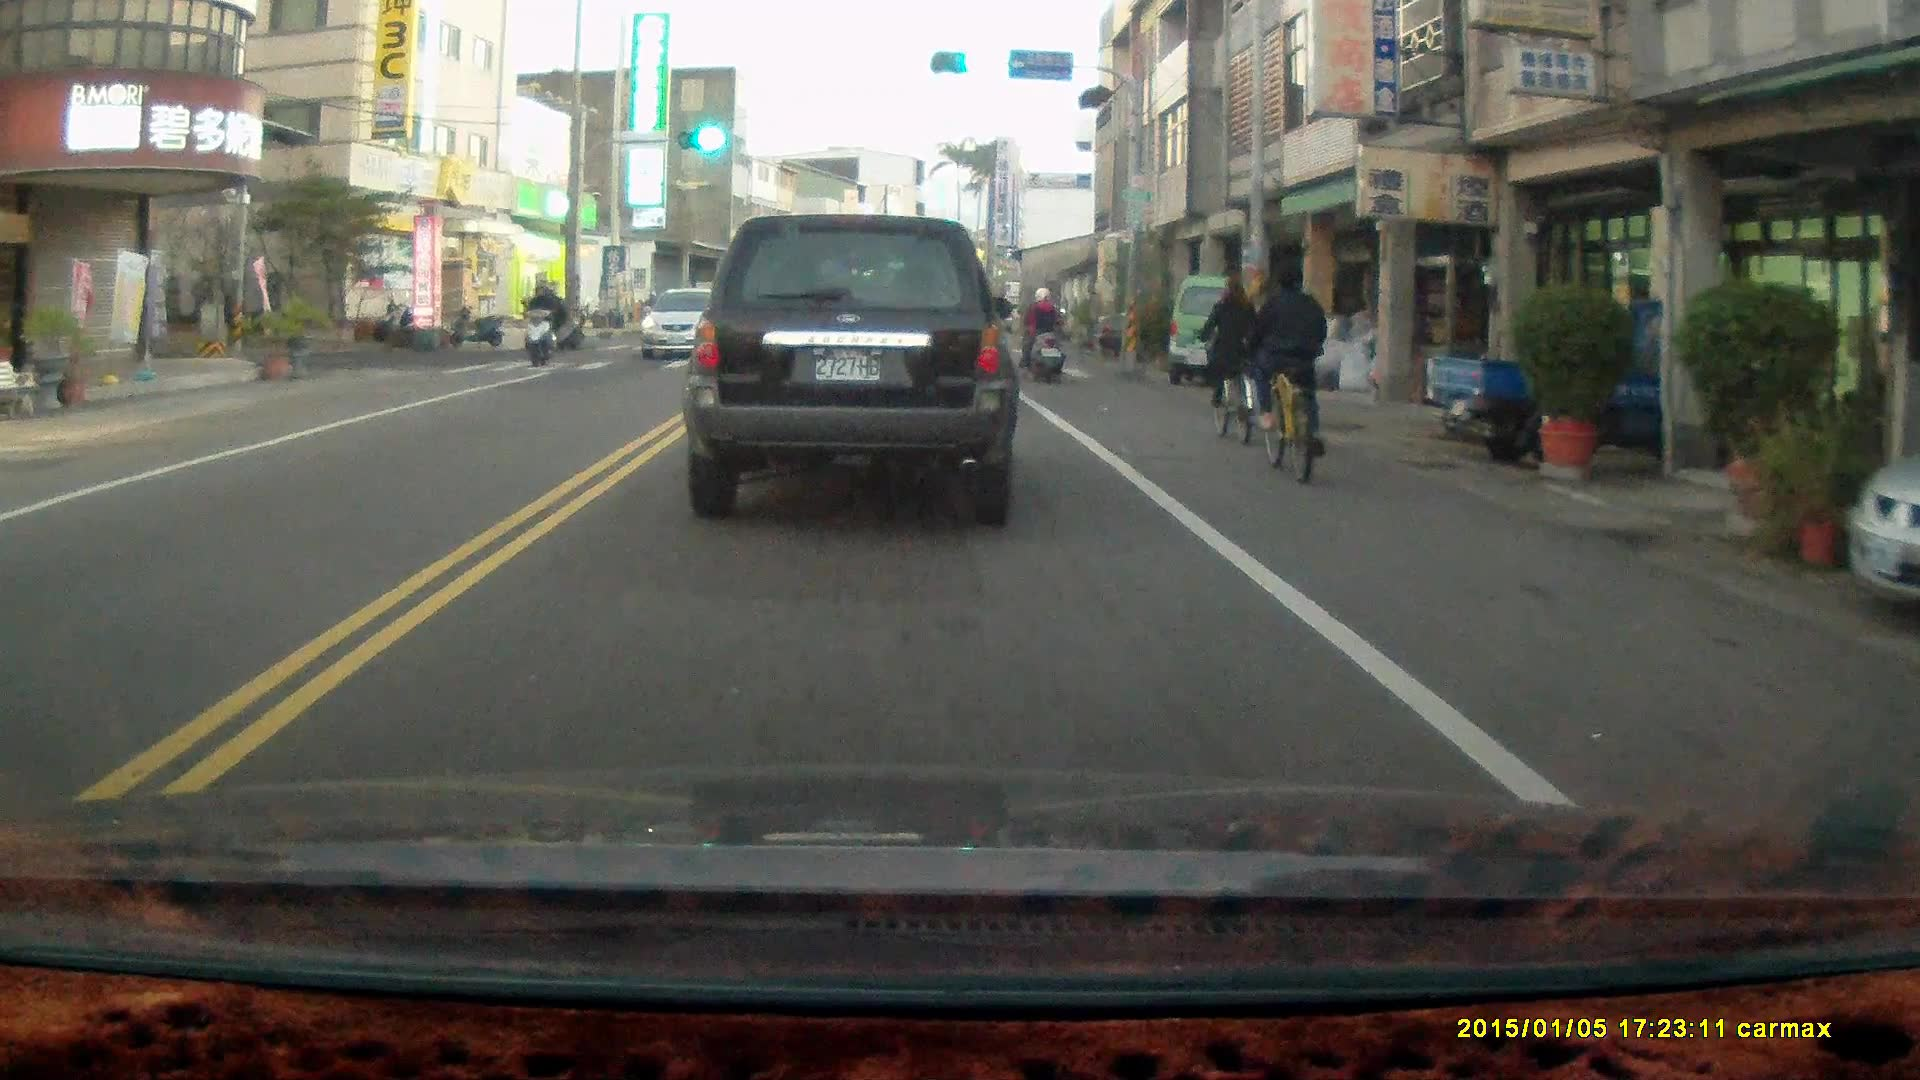rider: (1238, 257, 1326, 483), (1197, 276, 1259, 440), (1016, 282, 1068, 383), (519, 276, 560, 367), (527, 287, 581, 348)
vehicle: (682, 210, 1022, 520), (1842, 458, 1920, 614), (1169, 277, 1274, 381), (644, 286, 734, 361)
